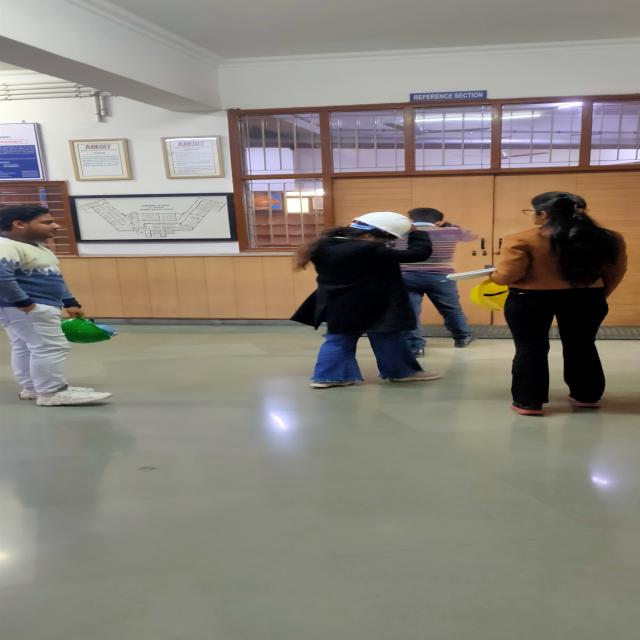no jacket: (290, 212, 442, 389)
unsafe: (489, 192, 628, 415), (0, 202, 114, 404), (413, 208, 479, 356)
